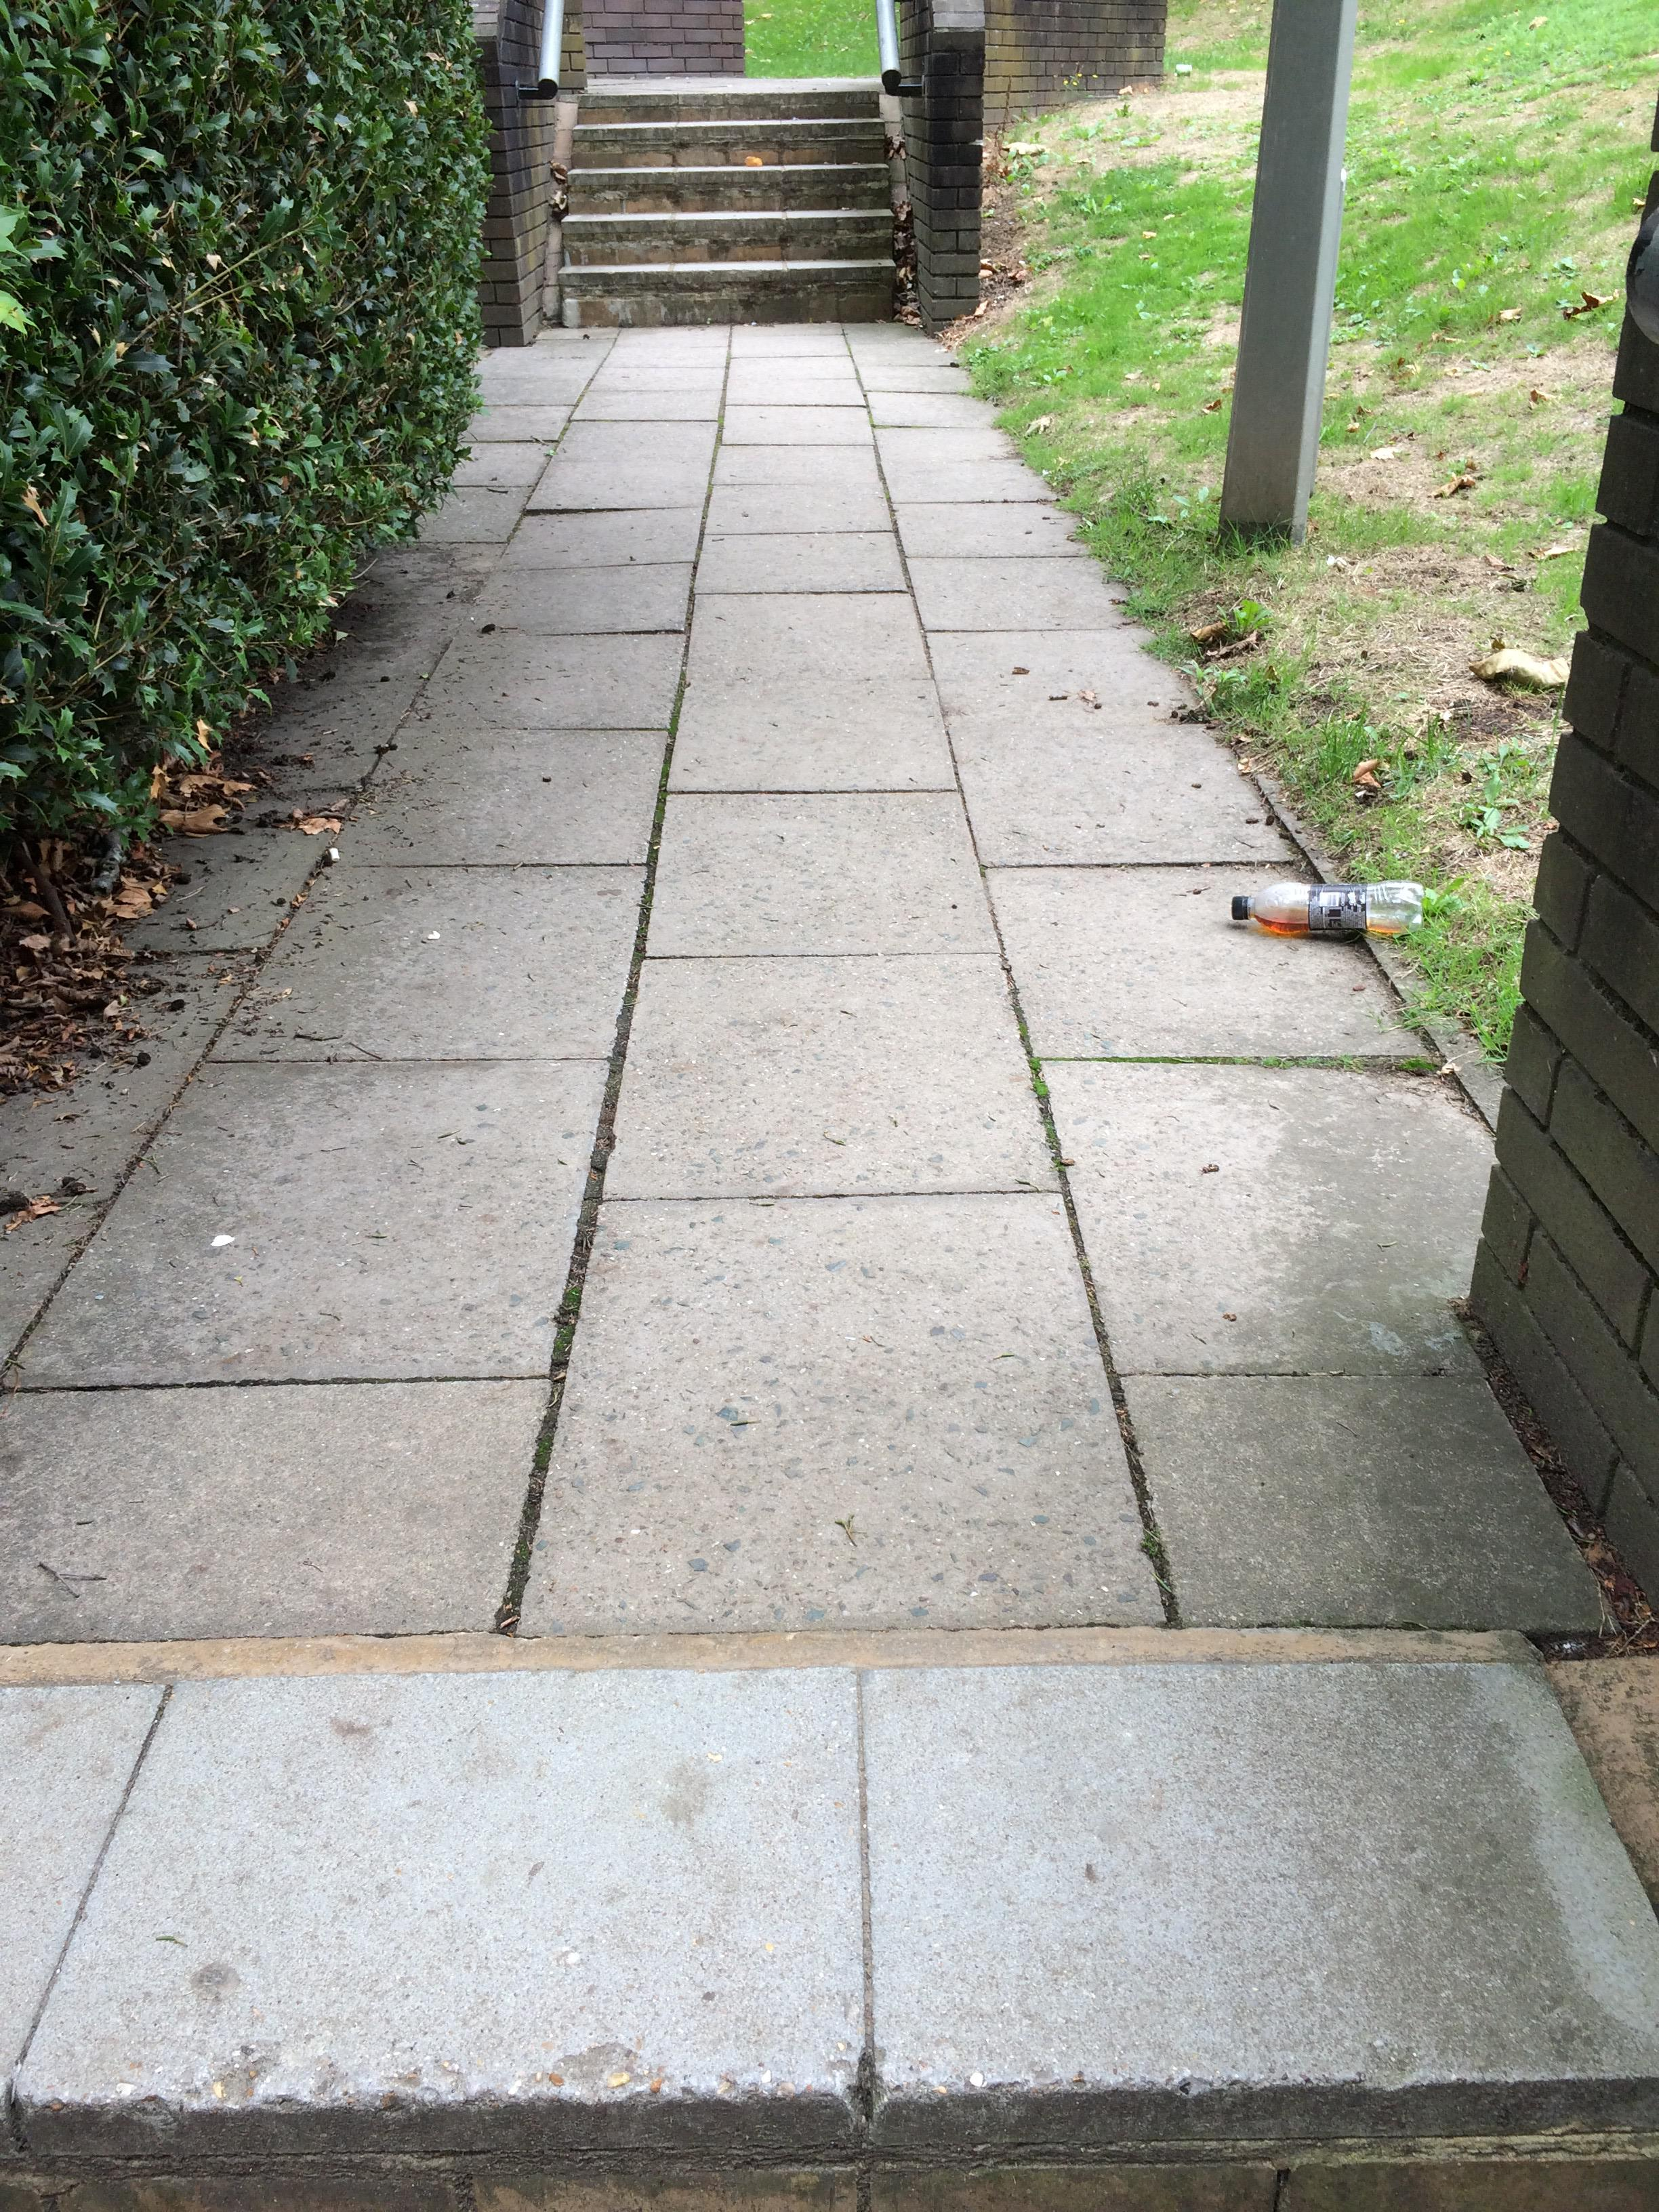Trash: (1222, 885, 1425, 937)
